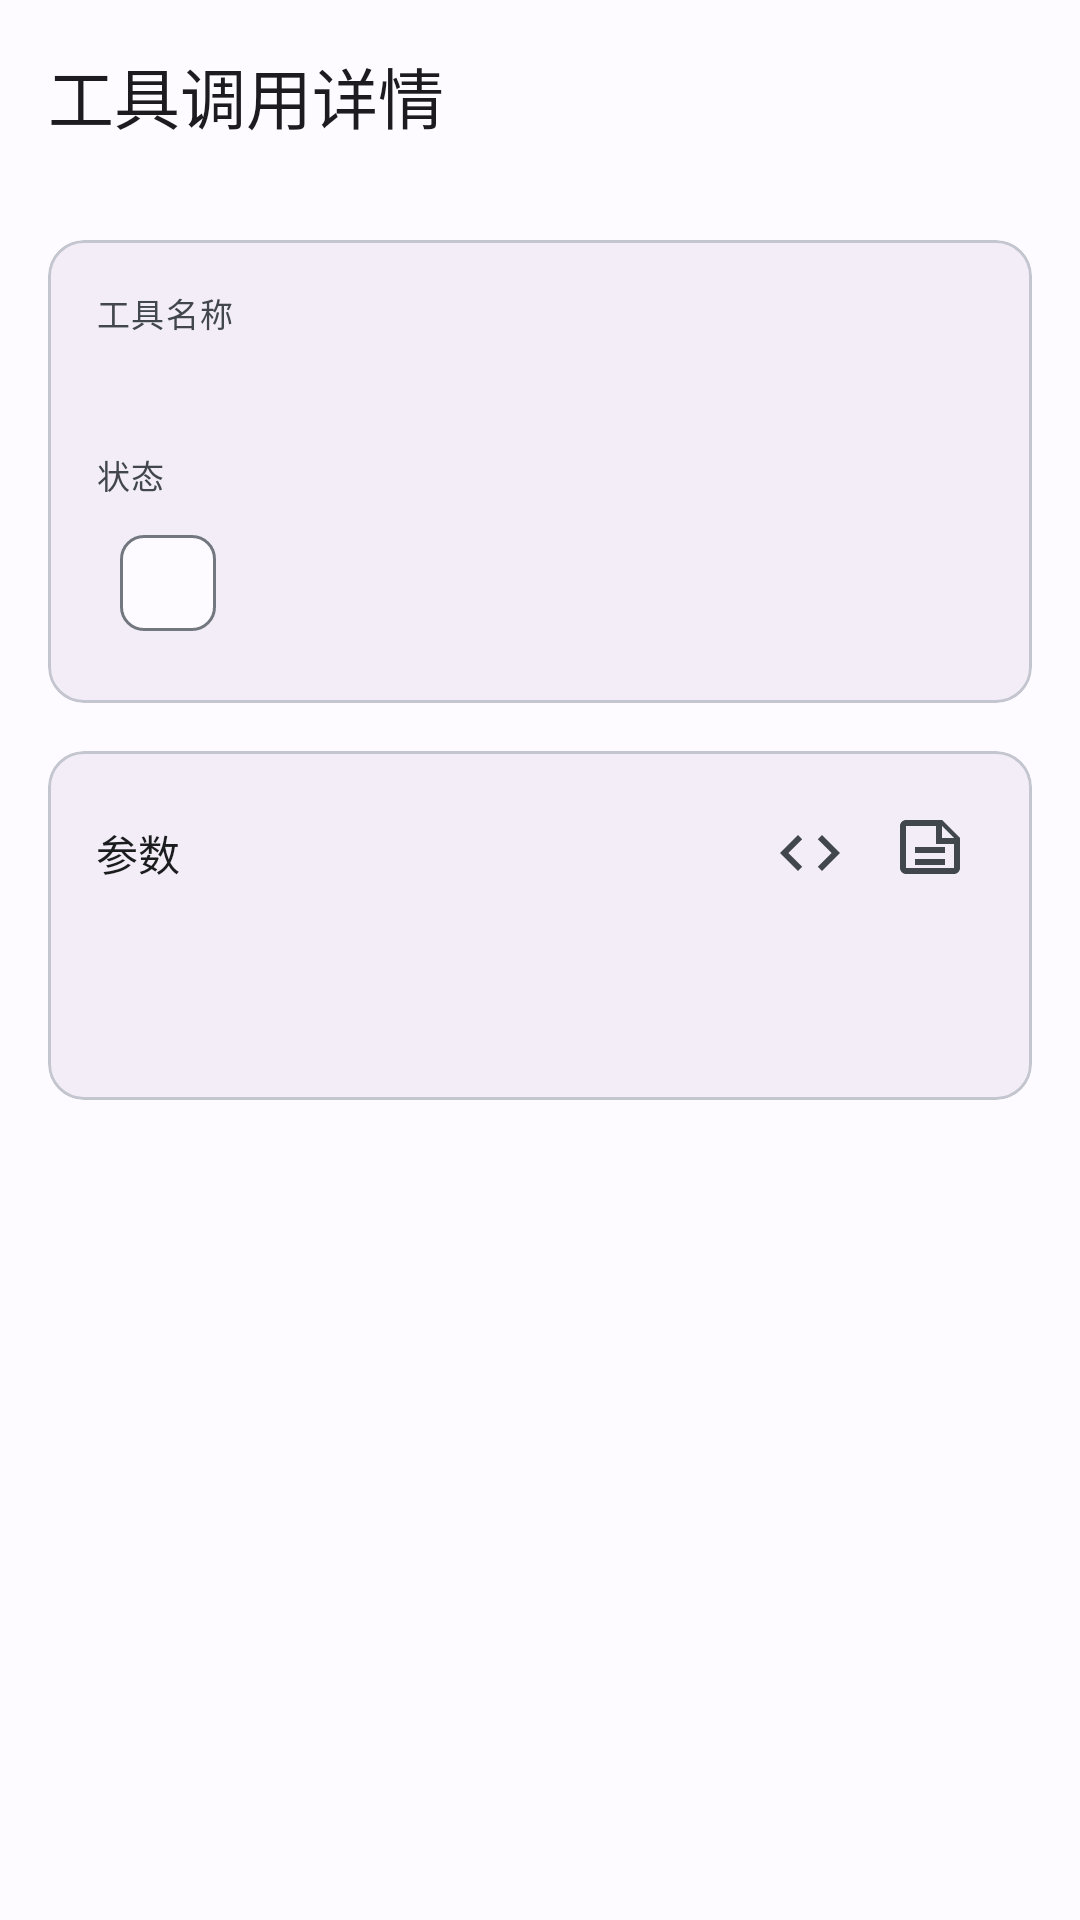

Icons on this 1080 x 1920 Android screen, each with the point to tap as point (x, y):
格式化JSON: point (810, 853)
